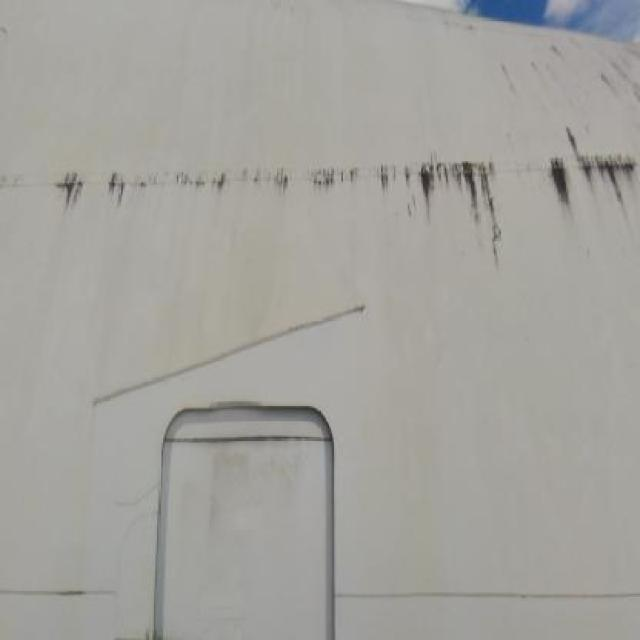Scartch: (27, 124, 640, 286), (85, 299, 377, 410)
